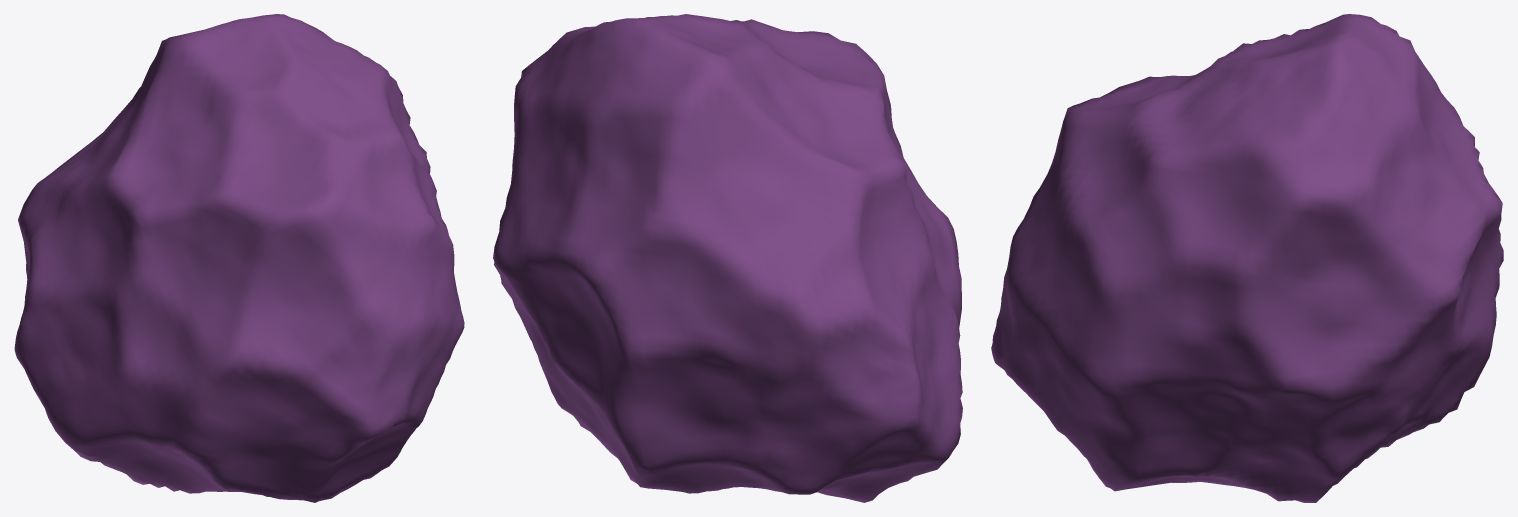
The model's file is rock.fbx.
3 views of the same model, side by side, from view 1: azimuth 30°, elevation 25°; view 2: azimuth 150°, elevation 25°; view 3: azimuth 270°, elevation 25° (orthographic). The views are drawn at different scales.
Visible parts, largest first — view 1: rock; view 2: rock; view 3: rock.
Boxes of the visible parts, x1,y1,x2,y2 form: rock: (14,14,464,502); rock: (493,14,962,502); rock: (991,14,1503,502).
Size of the model in its own units: 265 by 281 by 284.
